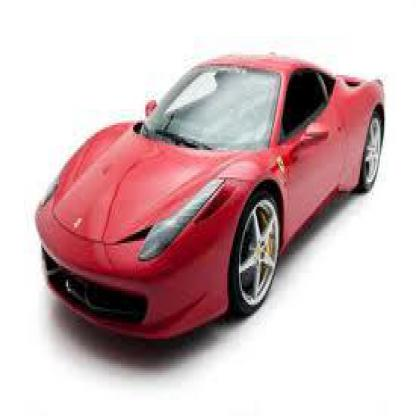Vehicle: (36, 54, 388, 348)
